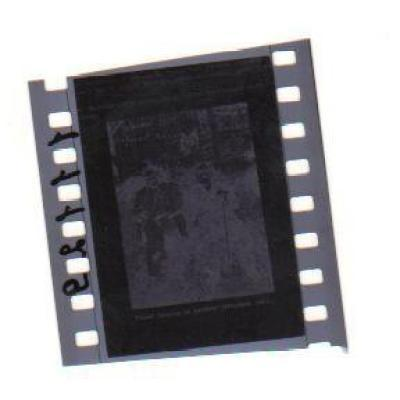photos_negatives: (70, 72, 304, 344)
